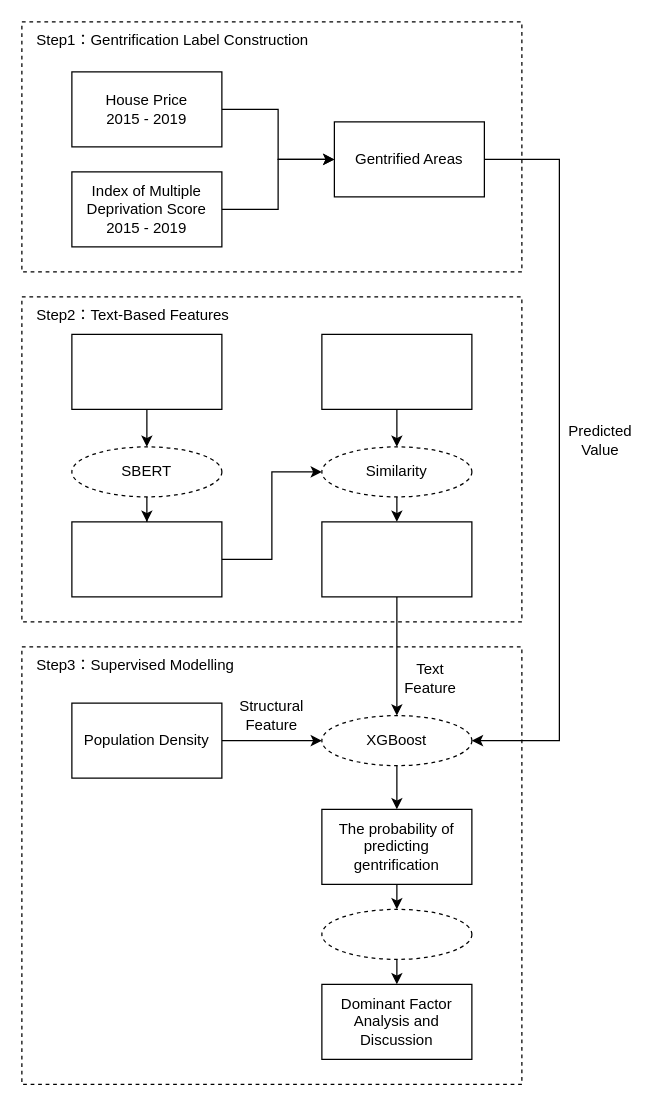
The diagram is 664 pixels wide and 1106 high, and some of its shapes have lost their labels. The shapes that lost their labels are listed below. From the top down, each one's box as (x1, y1, x2, y2) in pixels, then its label:
(71, 333, 222, 409): London Planning Application Texts 2015 - 2019
(321, 333, 472, 409): Gentrification features
(71, 521, 222, 597): Keylines
(321, 521, 472, 597): Keyline features
(321, 908, 472, 959): SHAP
